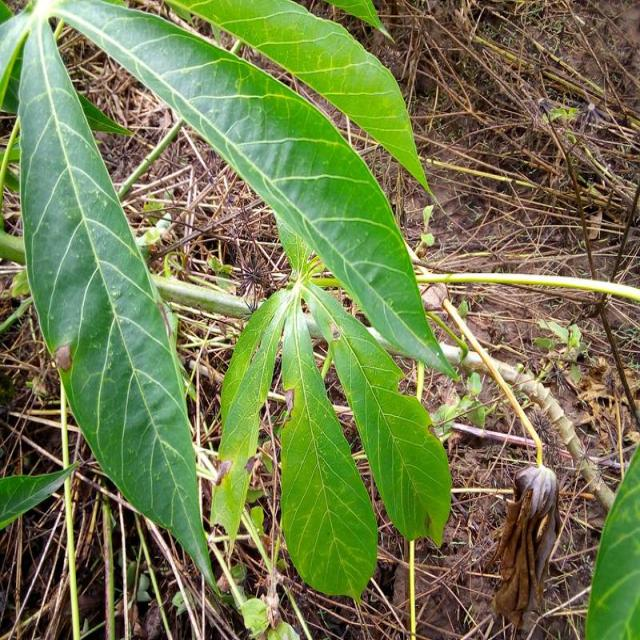cassava leaf: (50, 0, 457, 381), (15, 6, 220, 598), (163, 0, 434, 201), (301, 278, 452, 548), (277, 288, 378, 601), (584, 440, 639, 638)
